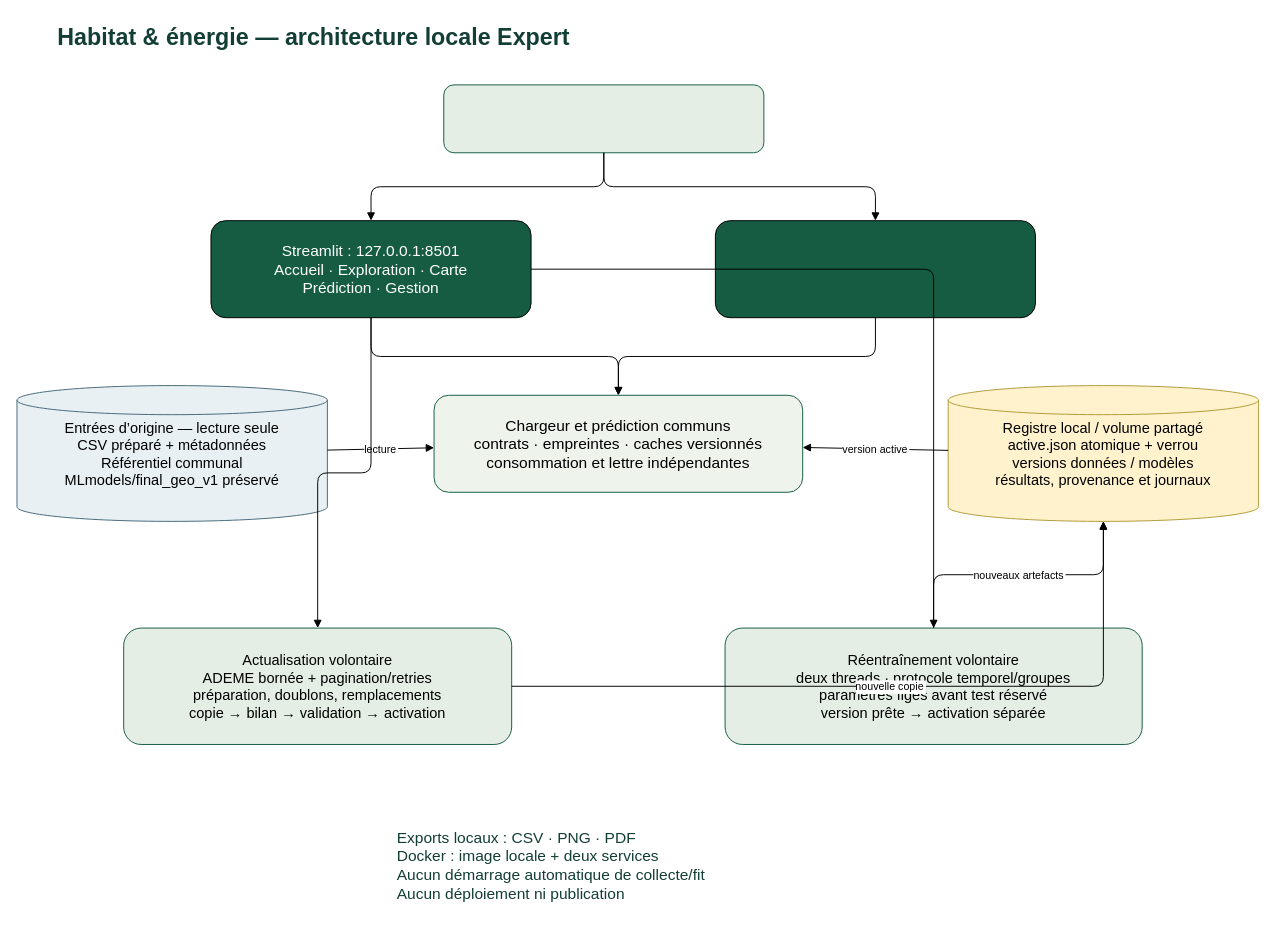
Some shapes in this 1276 by 935 pixel diagram are drawn without their labels. Here are the shapes that lost their labels. From the top down, the box of each, then its label:
(443, 84, 764, 153): Utilisateur local actions explicites et confirmations
(714, 220, 1035, 318): FastAPI : 127.0.0.1:8000 /health · /predict · OpenAPI validation des sept champs
